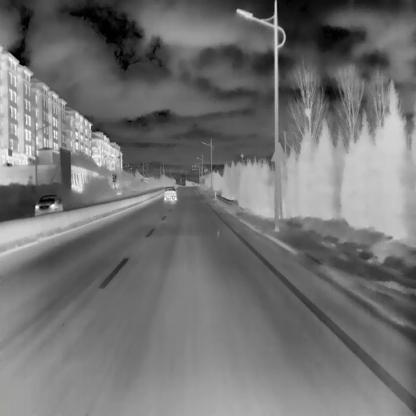car: (33, 193, 62, 215), (162, 184, 177, 200)
